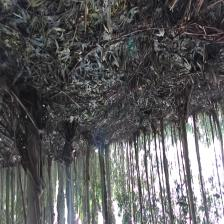trunk: (23, 132, 43, 220), (180, 118, 196, 215), (160, 117, 172, 207), (193, 116, 205, 196), (62, 154, 74, 220), (144, 134, 151, 201), (85, 146, 91, 220)
